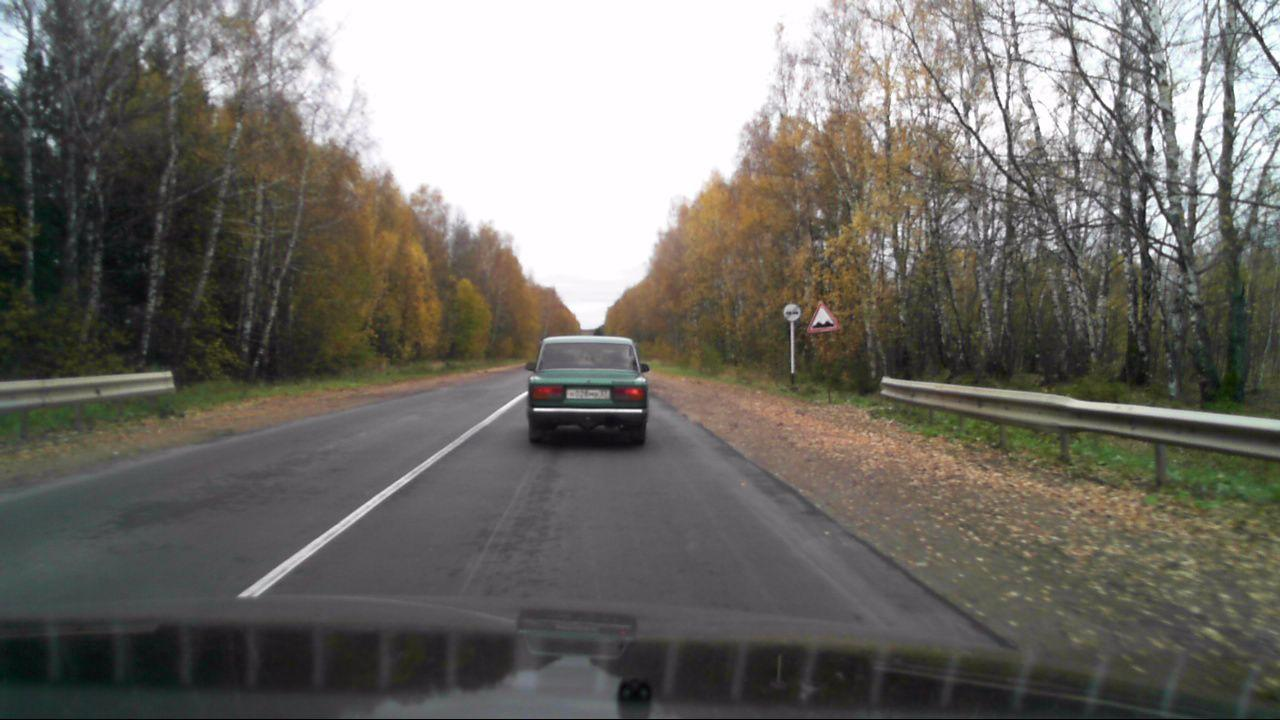1_16: (806, 300, 841, 332)
3_21: (781, 303, 801, 323)
